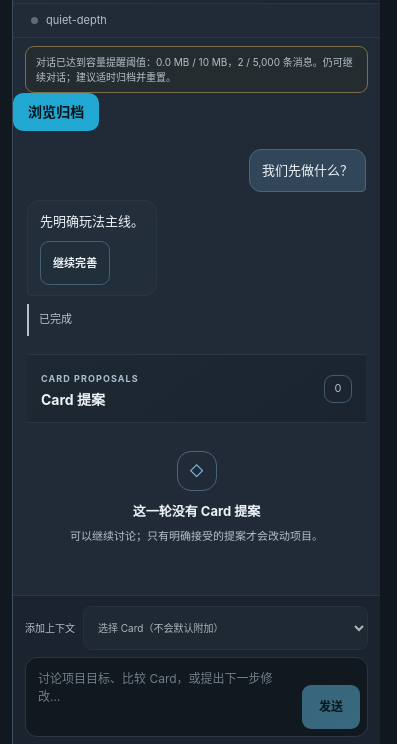
Scenario: ProjectConversationDrawer › 运行中达到 hard 时说明当前轮次收尾后封锁，停止按钮仍可用
The image size is (397, 744).
(page scrolled)
Type "开始下一轮" into the text box named "发送给项目 AI 的消息" at (164, 697), box x1=33 y1=665 x2=294 y2=729
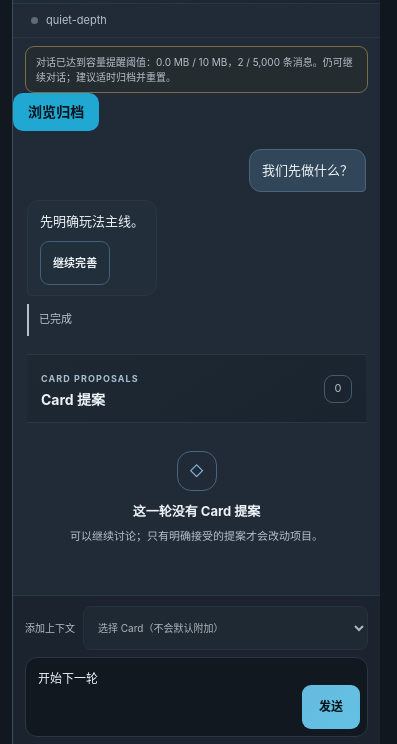
Click the button "发送" at (331, 707), box x1=302 y1=685 x2=360 y2=729
(page scrolled)
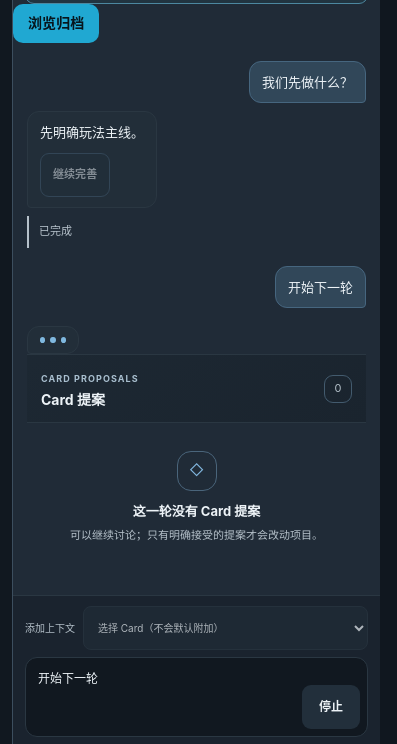
Now the button "停止" is enabled
Click the button "停止" at (331, 707), box x1=302 y1=685 x2=360 y2=729
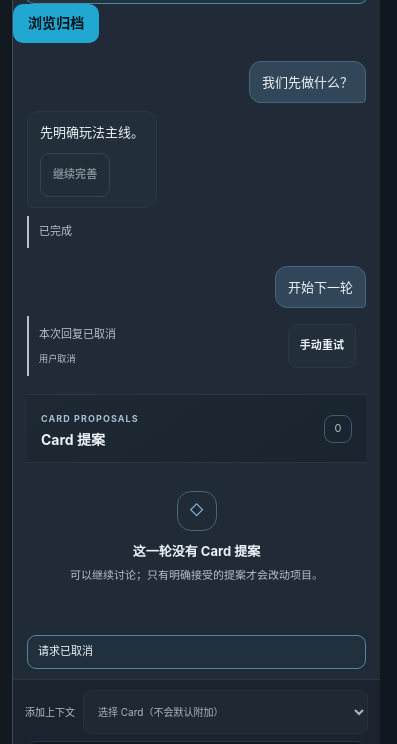
Now the text "本次回复已取消" is shown, box x1=39 y1=328 x2=116 y2=342
